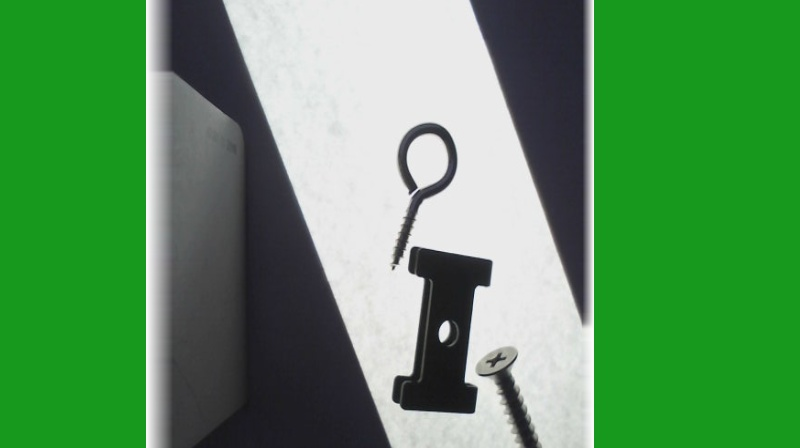O001: (385, 122, 457, 274)
O002: (389, 245, 492, 415)
S001: (473, 343, 550, 447)
